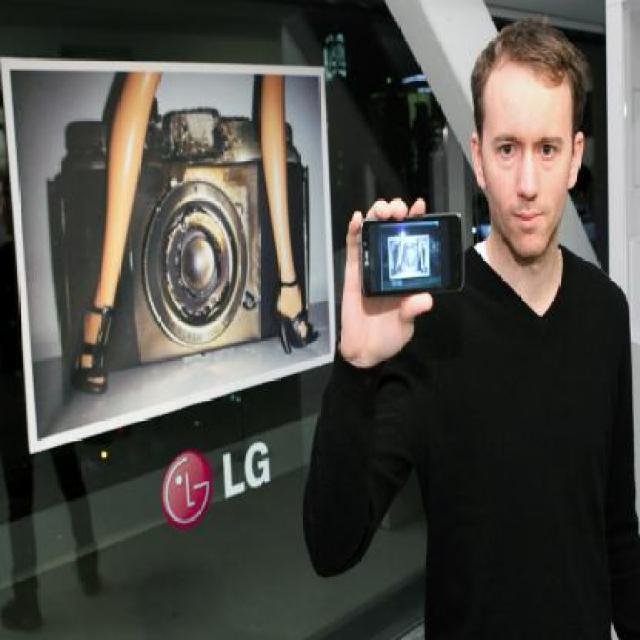phone: (357, 211, 468, 300)
